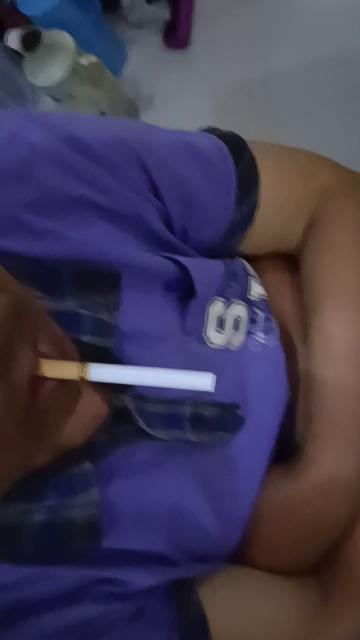Smoking: (34, 360, 221, 392)
